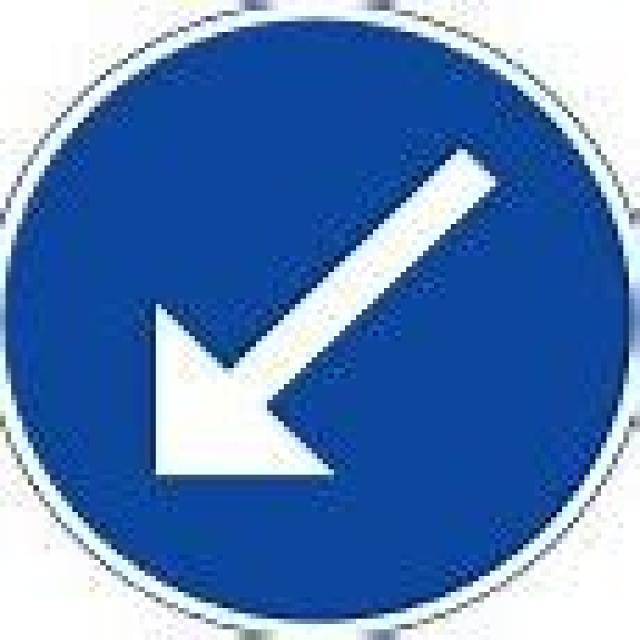R.301e: (0, 0, 634, 634)
